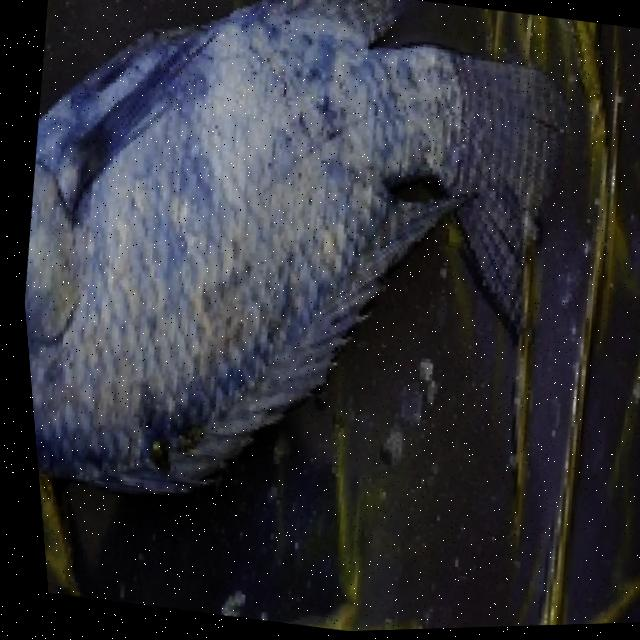Non-Fresh: (0, 0, 516, 517)
